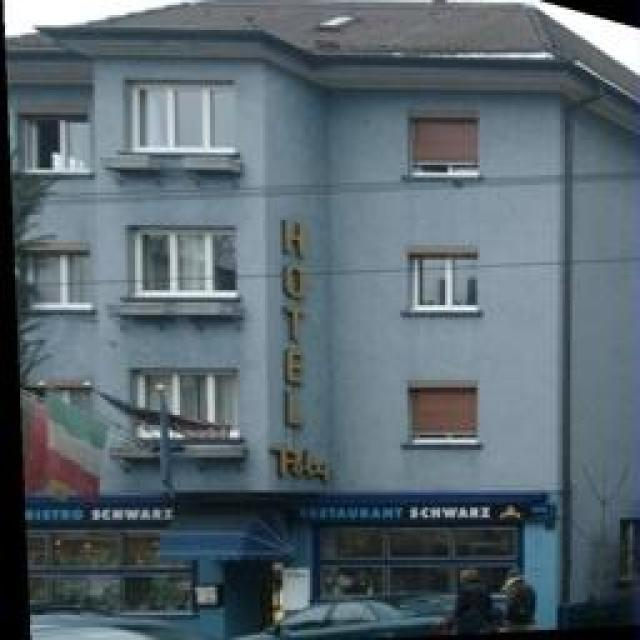Window: (128, 82, 235, 150), (128, 227, 235, 295), (318, 528, 518, 562), (27, 532, 155, 570), (22, 118, 92, 170), (24, 252, 88, 306), (412, 115, 478, 165), (412, 258, 478, 308), (410, 390, 478, 438), (175, 372, 233, 420)
